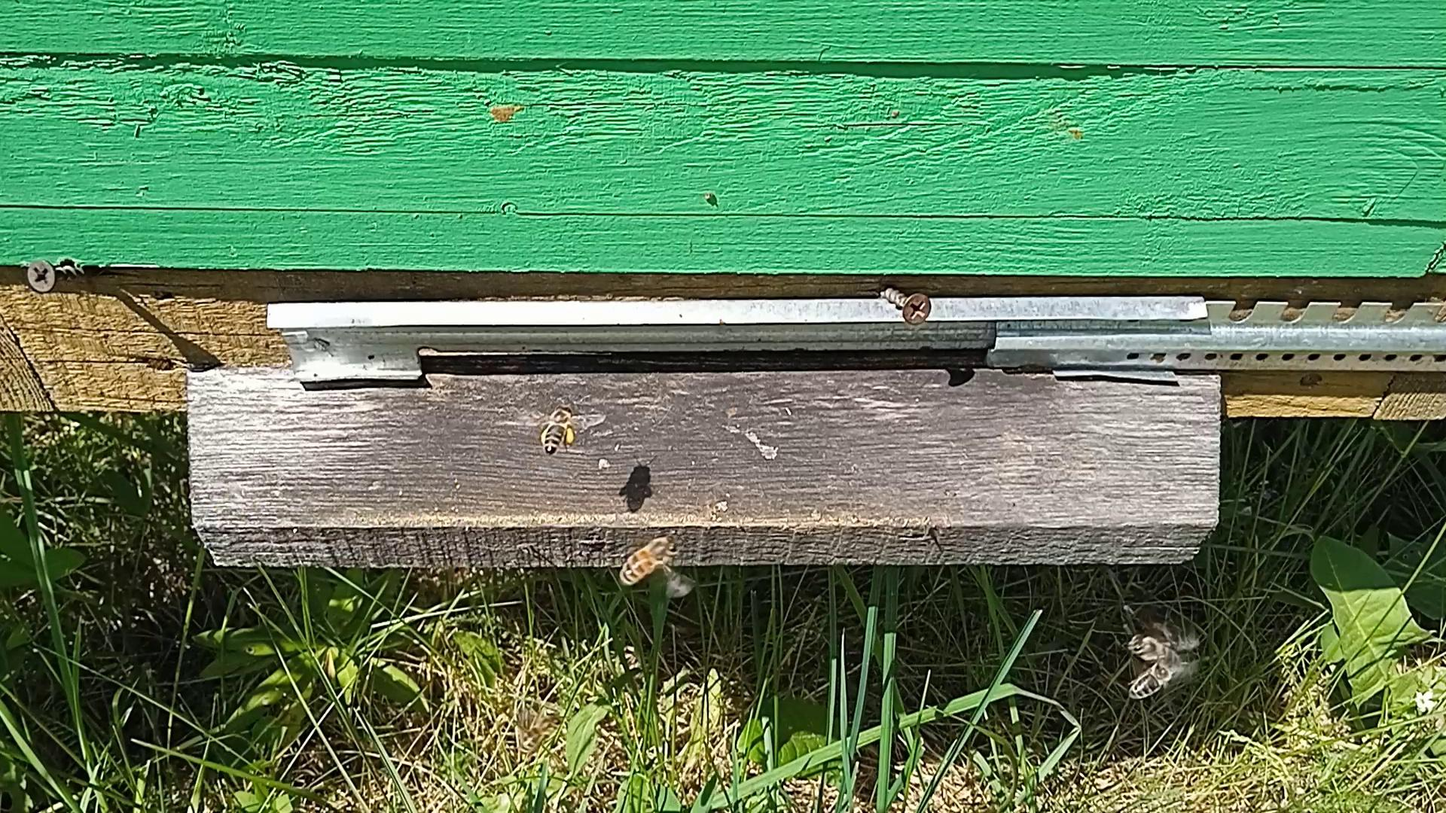worker-bee: (618, 534, 682, 586), (539, 403, 577, 455), (520, 706, 561, 754), (1128, 661, 1176, 699), (1126, 633, 1179, 663)
